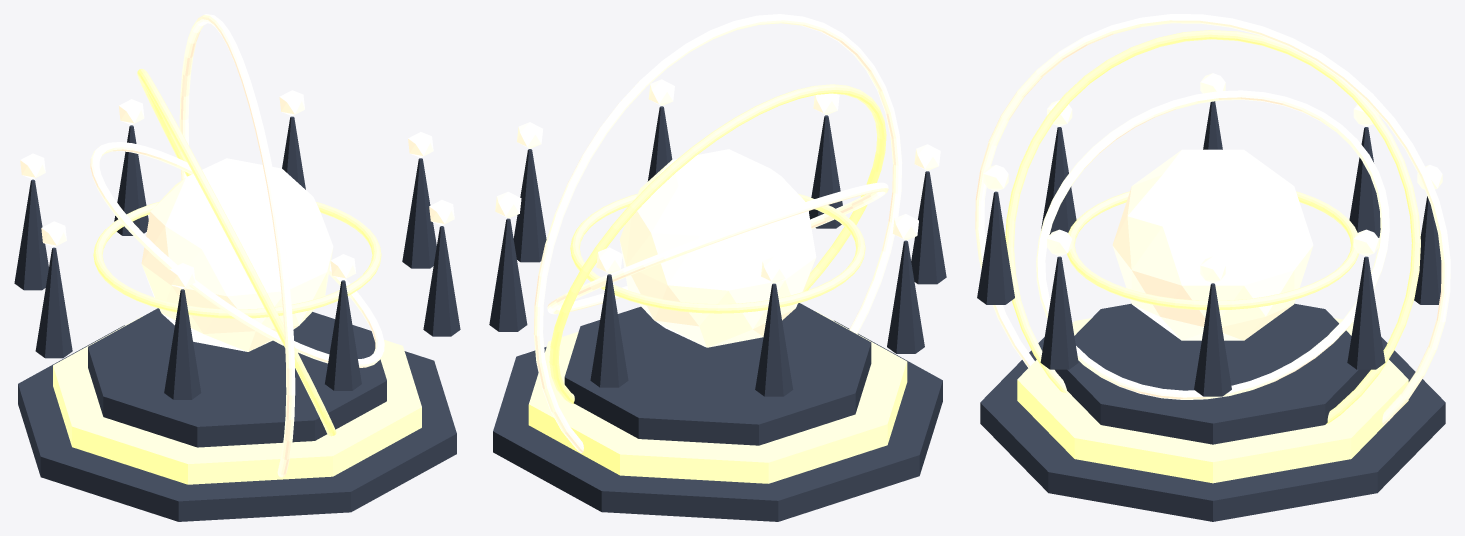
The model's file is gpu-blender-v15.glb.
3 views of the same model, side by side, from view 1: azimuth 30°, elevation 25°; view 2: azimuth 150°, elevation 25°; view 3: azimuth 270°, elevation 25° (orthographic). The views are drawn at different scales.
Parts seen in each view (by area): view 1: Cylinder.002, SovereignCore_muse-code-linux, Cylinder, Cylinder.001, Torus.003, Torus.001, Torus.002, Torus, Cone.004, Cone.007, Cone.005, Cone.006 (+12 smaller); view 2: Cylinder.002, SovereignCore_muse-code-linux, Cylinder, Cylinder.001, Torus.003, Torus.002, Torus.001, Torus, Cone.002, Cone.003, Cone.001, Cone.004 (+11 smaller); view 3: SovereignCore_muse-code-linux, Cylinder.002, Cylinder, Cylinder.001, Torus.003, Torus.002, Torus.001, Torus, Cone, Cone.001, Cone.007, Cone.006 (+8 smaller).
Part boxes in pixels (x1=…): Cylinder.002: x1=88, y1=308, x2=386, y2=447; SovereignCore_muse-code-linux: x1=141, y1=158, x2=333, y2=351; Cylinder: x1=18, y1=325, x2=456, y2=521; Cylinder.001: x1=53, y1=316, x2=421, y2=484; Torus.003: x1=179, y1=14, x2=295, y2=477; Torus.001: x1=90, y1=142, x2=384, y2=367; Torus.002: x1=137, y1=69, x2=336, y2=436; Torus: x1=93, y1=202, x2=381, y2=318; Cone.004: x1=35, y1=247, x2=72, y2=358; Cone.007: x1=423, y1=226, x2=460, y2=336; Cone.005: x1=164, y1=289, x2=201, y2=399; Cone.006: x1=325, y1=280, x2=361, y2=390; Cylinder.002: x1=564, y1=303, x2=871, y2=445; SovereignCore_muse-code-linux: x1=619, y1=149, x2=816, y2=347; Cylinder: x1=493, y1=320, x2=942, y2=521; Cylinder.001: x1=528, y1=311, x2=907, y2=483; Torus.003: x1=533, y1=14, x2=902, y2=452; Torus.002: x1=549, y1=84, x2=886, y2=403; Torus.001: x1=547, y1=182, x2=888, y2=314; Torus: x1=570, y1=193, x2=865, y2=313; Cone.002: x1=590, y1=274, x2=628, y2=387; Cone.003: x1=755, y1=283, x2=793, y2=396; Cone.001: x1=489, y1=218, x2=527, y2=331; Cone.004: x1=887, y1=240, x2=924, y2=353; SovereignCore_muse-code-linux: x1=1112, y1=149, x2=1313, y2=340; Cylinder.002: x1=1055, y1=303, x2=1370, y2=444; Cylinder: x1=980, y1=337, x2=1445, y2=521; Cylinder.001: x1=1017, y1=318, x2=1408, y2=483; Torus.003: x1=975, y1=14, x2=1450, y2=424; Torus.002: x1=1005, y1=30, x2=1420, y2=423; Torus.001: x1=1036, y1=90, x2=1389, y2=399; Torus: x1=1067, y1=191, x2=1358, y2=310; Cone: x1=1194, y1=283, x2=1231, y2=396; Cone.001: x1=1347, y1=256, x2=1385, y2=369; Cone.007: x1=1040, y1=256, x2=1078, y2=369; Cone.006: x1=977, y1=191, x2=1014, y2=304.
Bounding box in the file's own units: 4.41 × 4.7 × 4.49.
